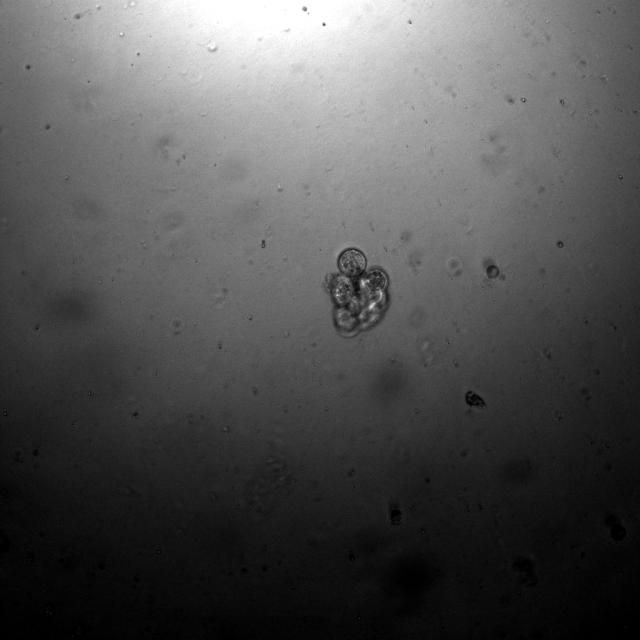organoid: (323, 247, 388, 336), (465, 391, 486, 410), (485, 264, 501, 280), (556, 240, 564, 249)
